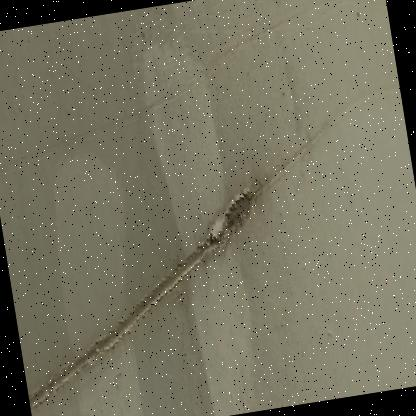Crack: (0, 156, 310, 415)
